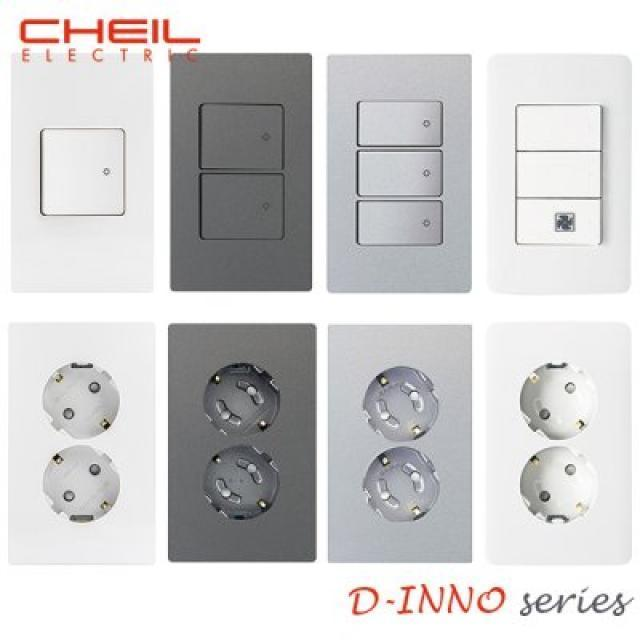typeb: (5, 317, 640, 573)
